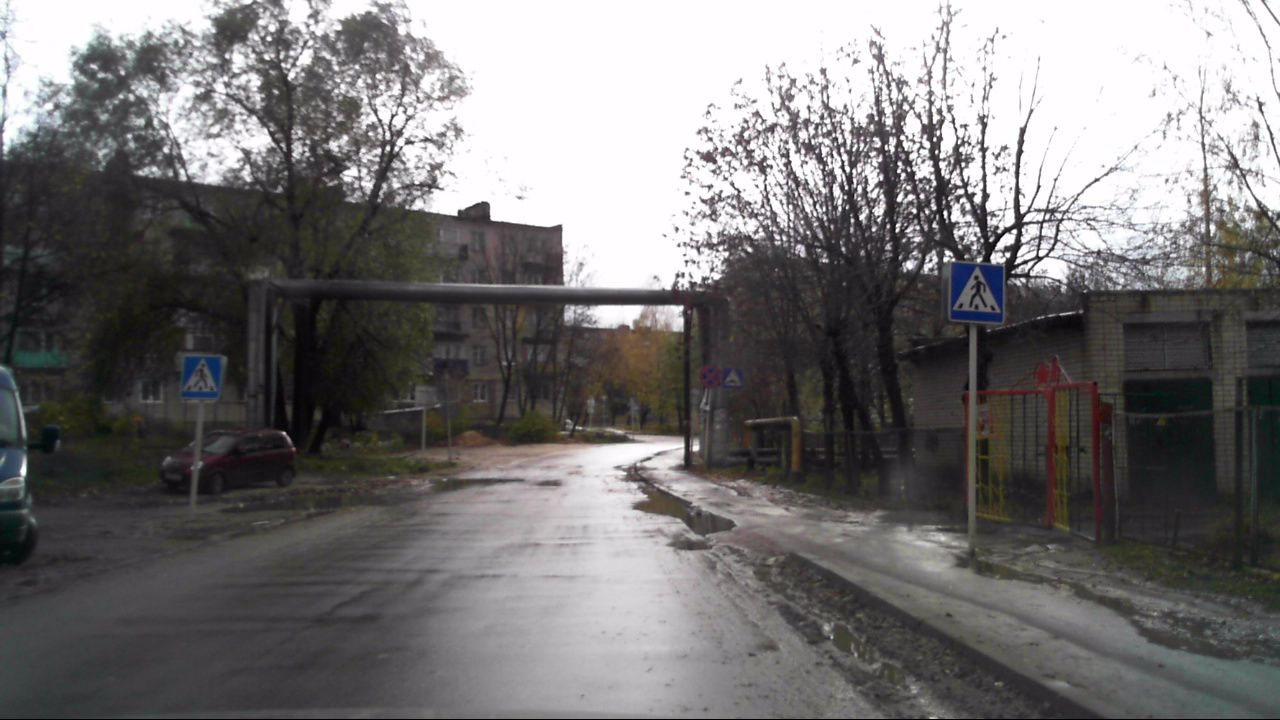No Parking: (698, 364, 722, 389)
